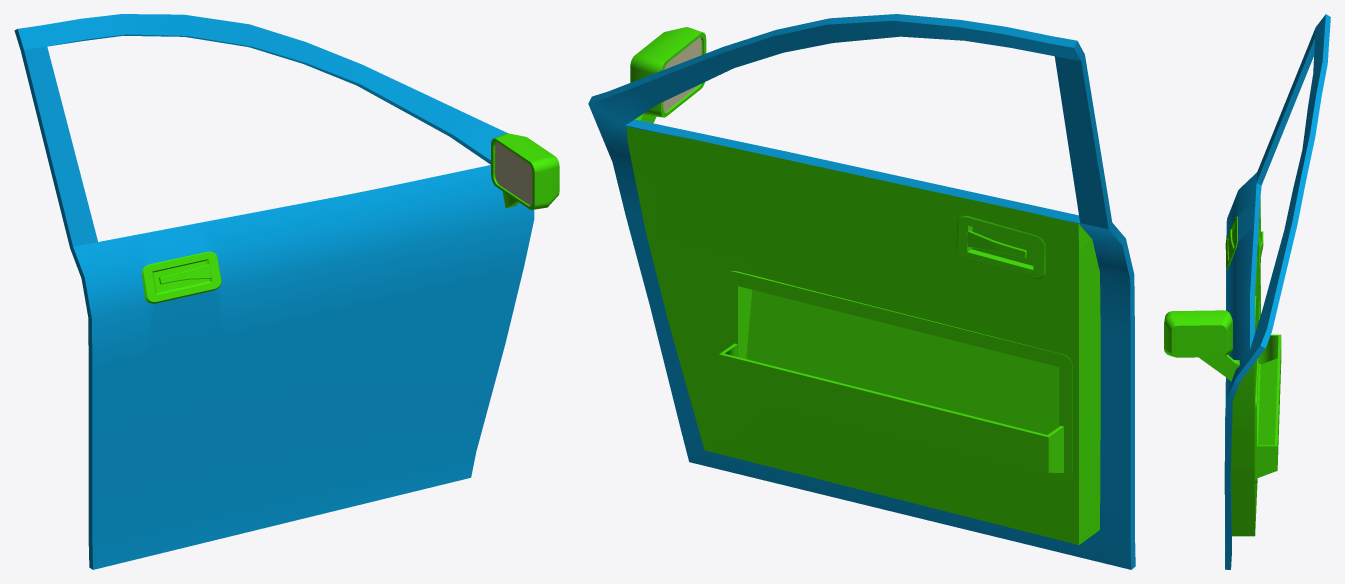
The model's file is Car_Door_01B.fbx.
3 views of the same model, side by side, from view 1: azimuth 30°, elevation 25°; view 2: azimuth 150°, elevation 25°; view 3: azimuth 270°, elevation 25° (orthographic). The views are drawn at different scales.
Visible parts, largest first — view 1: Car_Door_01B; view 2: Car_Door_01B; view 3: Car_Door_01B.
Part boxes in pixels (<box>): Car_Door_01B: <box>14,14,559,569</box>; Car_Door_01B: <box>588,14,1135,569</box>; Car_Door_01B: <box>1164,14,1330,569</box>.
Size of the model in its own units: 121 by 126 by 47.17.
